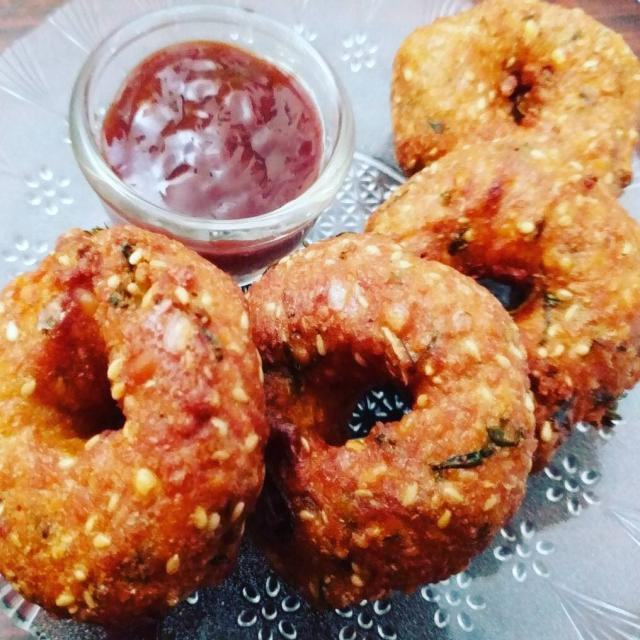Wet Waste: (248, 248, 536, 580), (10, 232, 253, 624), (384, 139, 640, 429), (378, 19, 640, 210)
